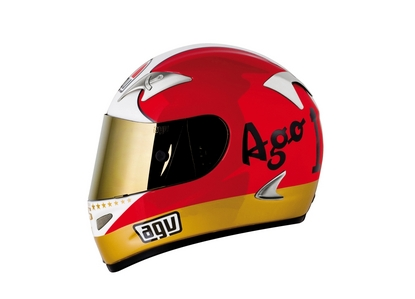helmet: (84, 46, 316, 244)
